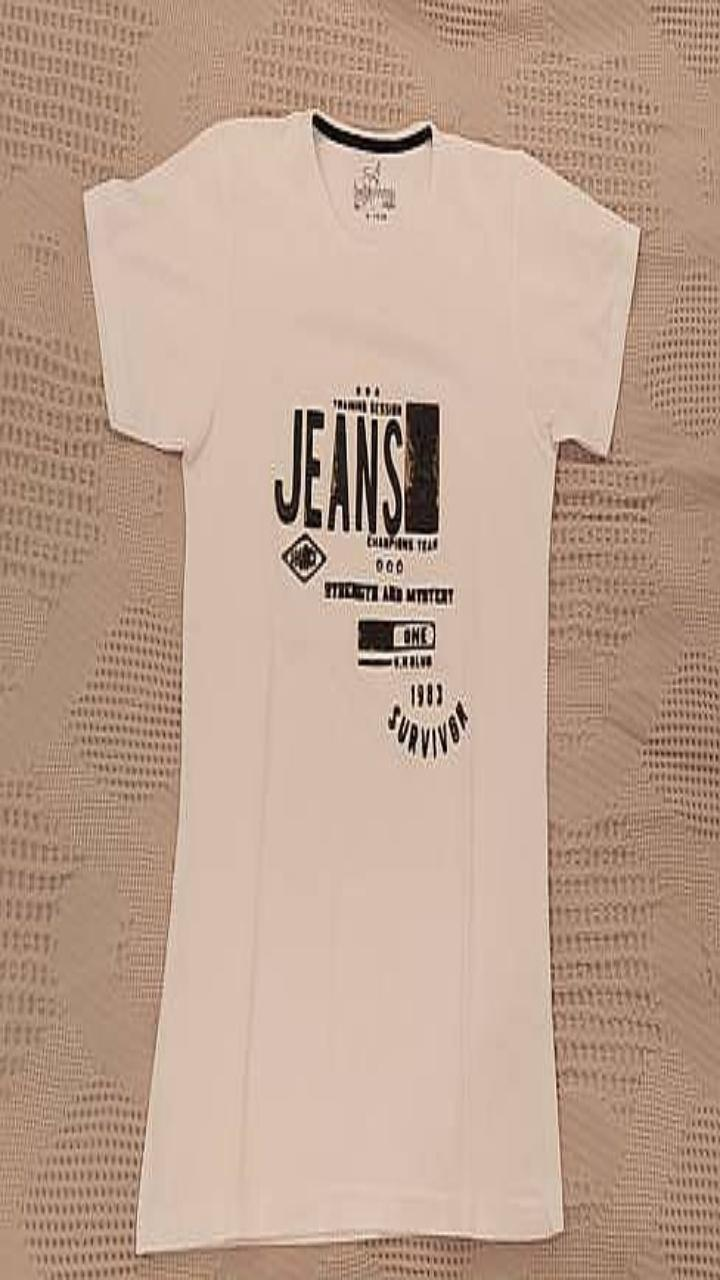T-Shirt: (83, 108, 639, 1252)
